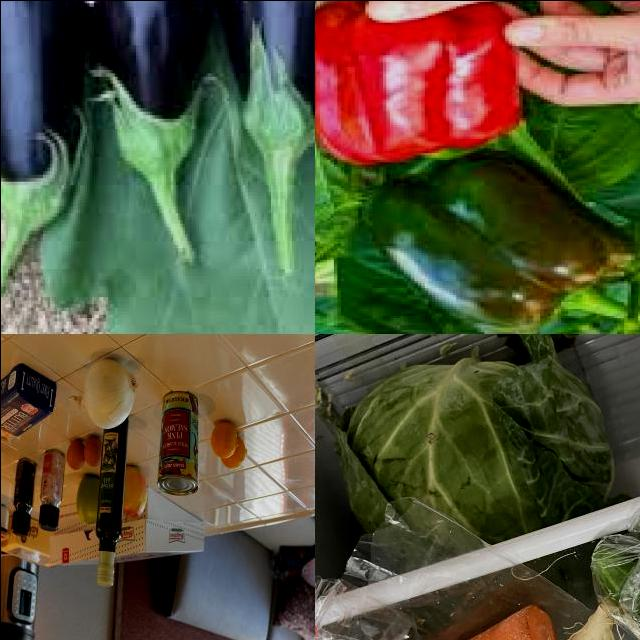bell_pepper: (364, 155, 640, 334), (13, 460, 37, 537)
cabbage: (324, 334, 615, 570)
carrot: (390, 602, 561, 640)
egg: (65, 438, 85, 470), (84, 436, 105, 466)
eggplant: (97, 1, 211, 182), (220, 1, 315, 165)
onion: (70, 352, 140, 432)
